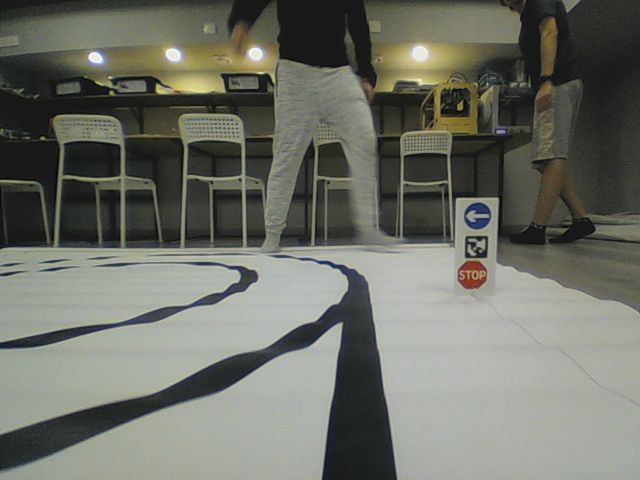Stop: (456, 259, 490, 291)
